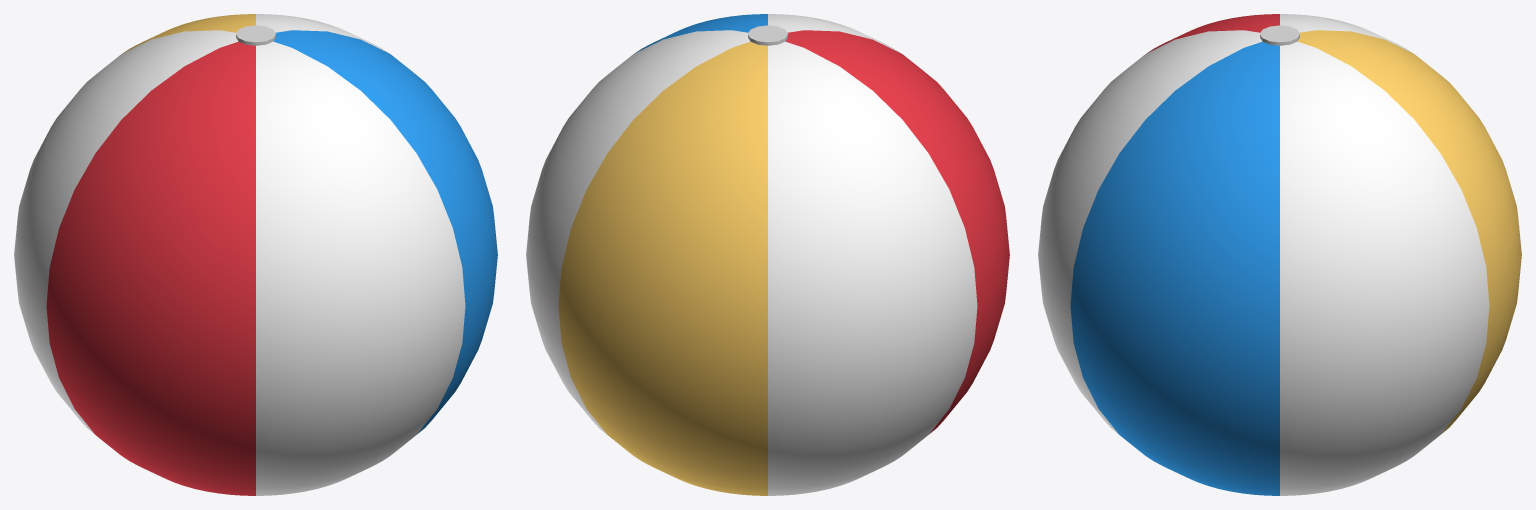
File: beach_ball.glb
The picture shows the model from 3 angles, left to right: view 1: azimuth 30°, elevation 25°; view 2: azimuth 150°, elevation 25°; view 3: azimuth 270°, elevation 25°; orthographic projection.
Visible parts, largest first — view 1: Beach ball; view 2: Beach ball; view 3: Beach ball.
Boxes of the visible parts, bbox=[...] form: Beach ball: bbox=[14, 14, 497, 495]; Beach ball: bbox=[526, 14, 1009, 495]; Beach ball: bbox=[1038, 14, 1521, 495].
Size of the model in its own units: 1.2 by 1.21 by 1.2.
